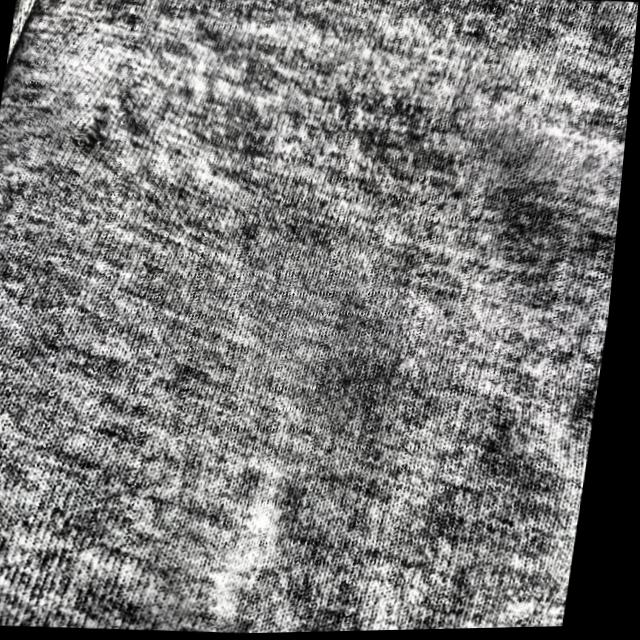Hole: (63, 108, 126, 164)
